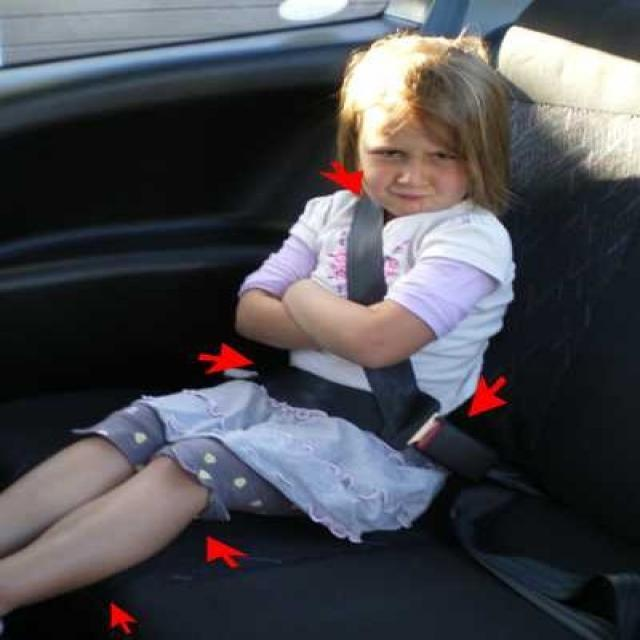seatbelt: (312, 166, 504, 478)
